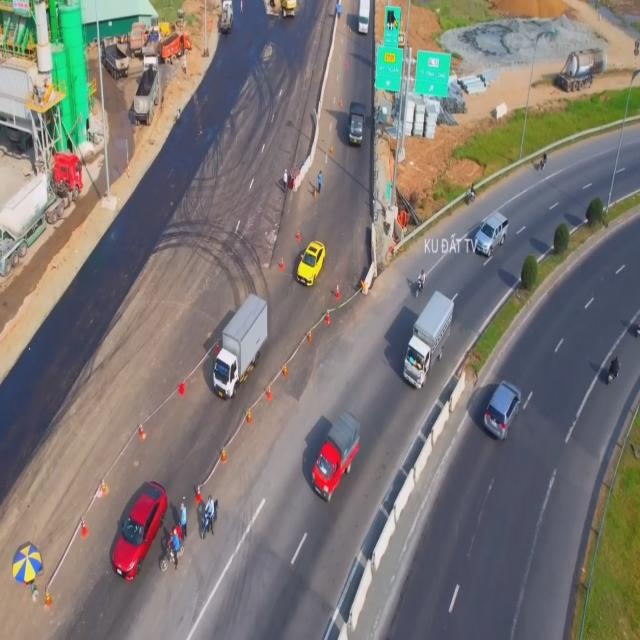car: (109, 478, 167, 581), (483, 373, 521, 442), (474, 211, 511, 257), (296, 241, 325, 288)
motorbike: (198, 492, 220, 538), (160, 535, 185, 574), (606, 355, 622, 386), (415, 269, 427, 296), (468, 182, 477, 205), (540, 152, 548, 174)
truck: (212, 294, 269, 399), (401, 291, 454, 392), (312, 408, 362, 502), (348, 99, 367, 146), (357, 1, 371, 36)
